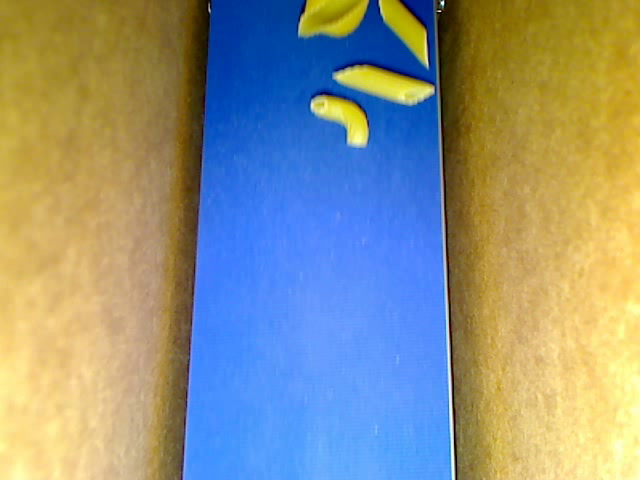elbow: (310, 94, 369, 148)
penne: (332, 64, 436, 108), (378, 1, 431, 69)
shell: (298, 1, 371, 39)
